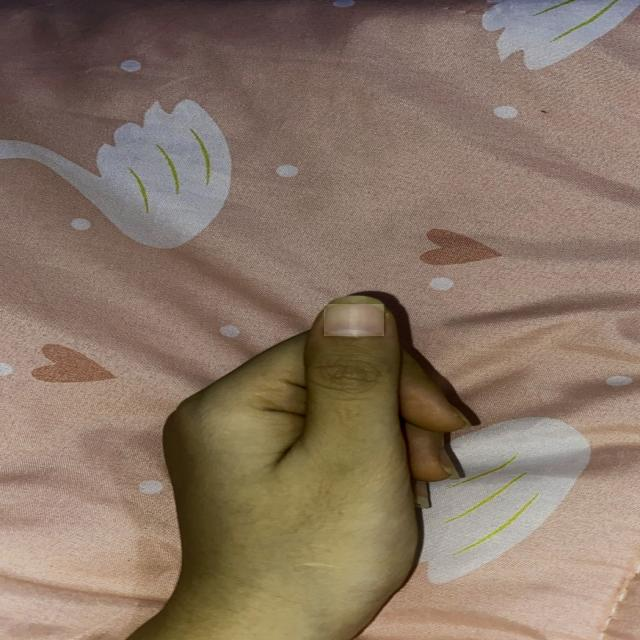sehat: (325, 304, 384, 336)
